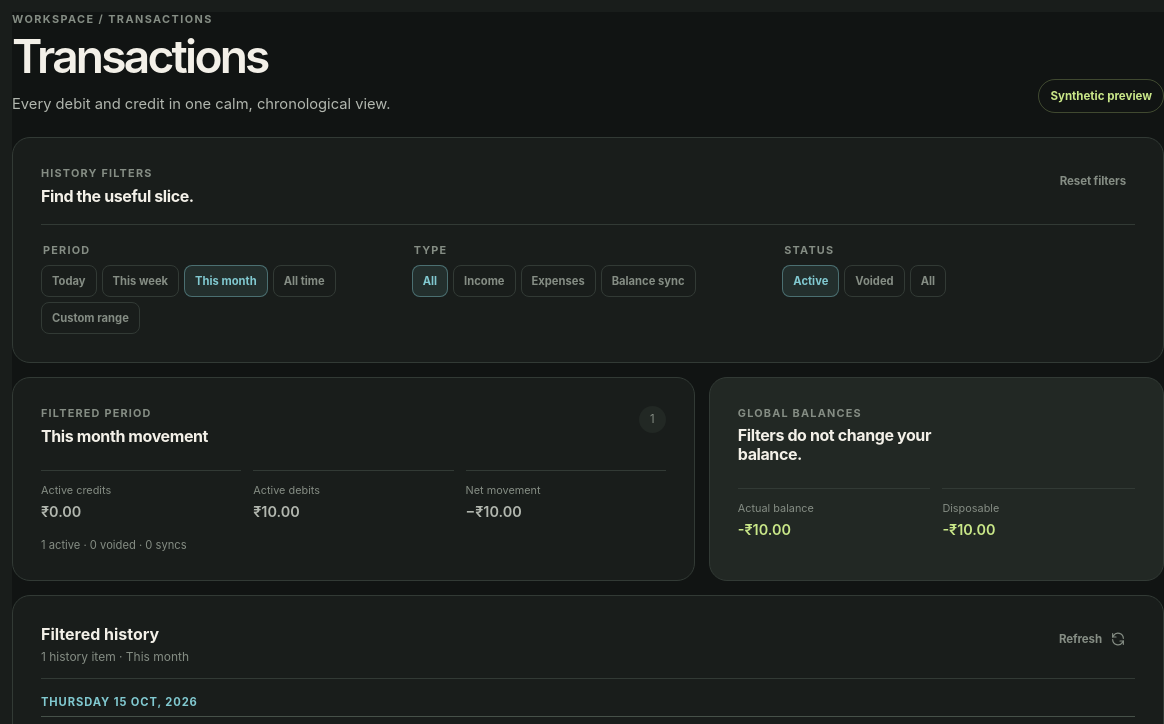
Scenario: transaction history filters › anchors synthetic custom-range defaults and reset to the demo reference date
Click the button "Custom range": (90, 318) 41,302 -> 140,334
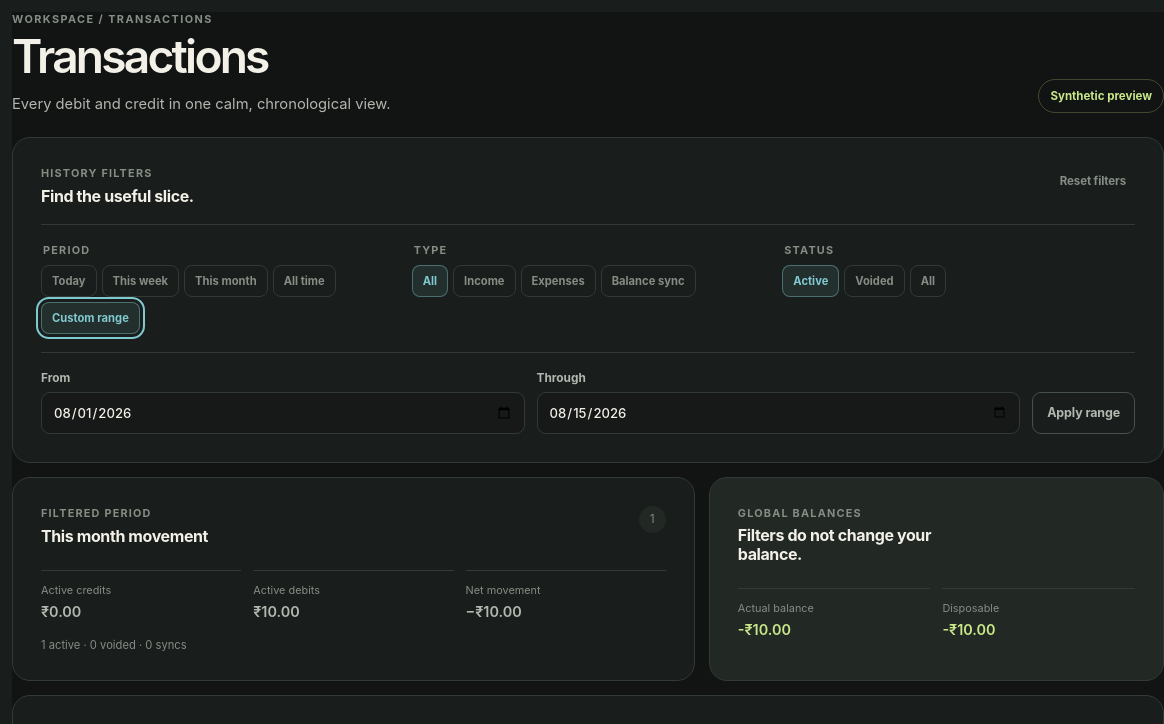
Now the date field named "Custom range start" holds "2026-08-01", box 41,392 -> 525,434
Now the date field named "Custom range end" holds "2026-08-15", box 537,392 -> 1020,434
Click the button "Reset filters": (1093, 181) 1051,166 -> 1135,196
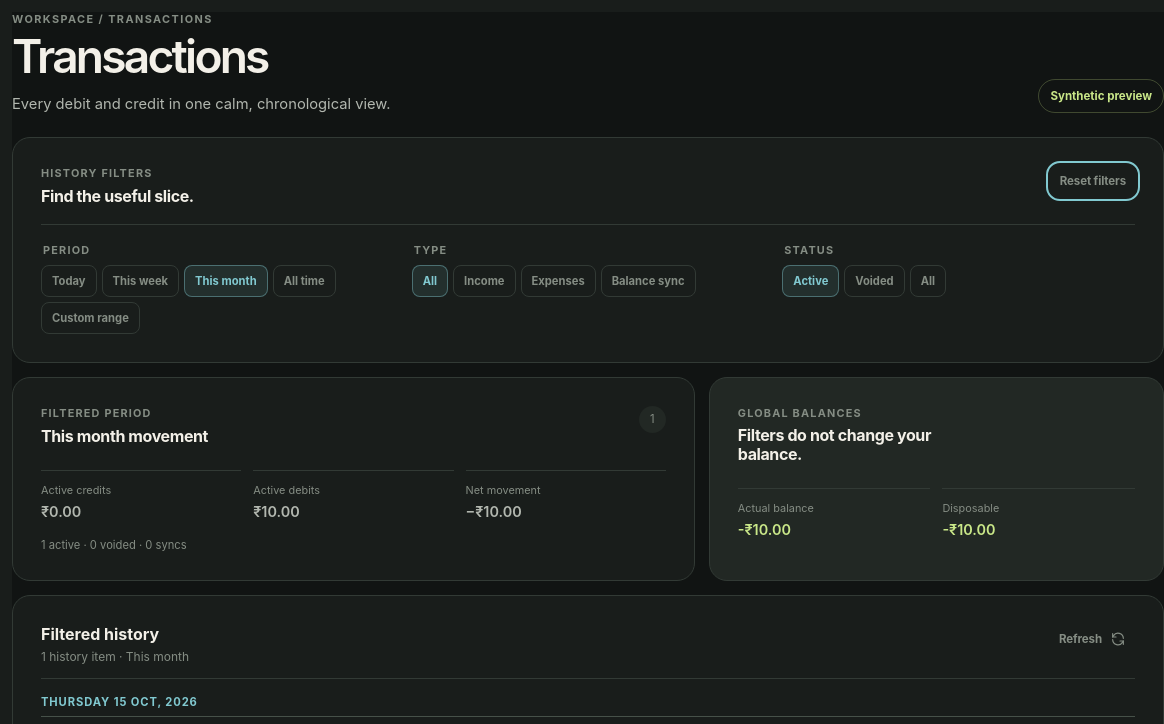
Click the button "Custom range": (90, 318) 41,302 -> 140,334
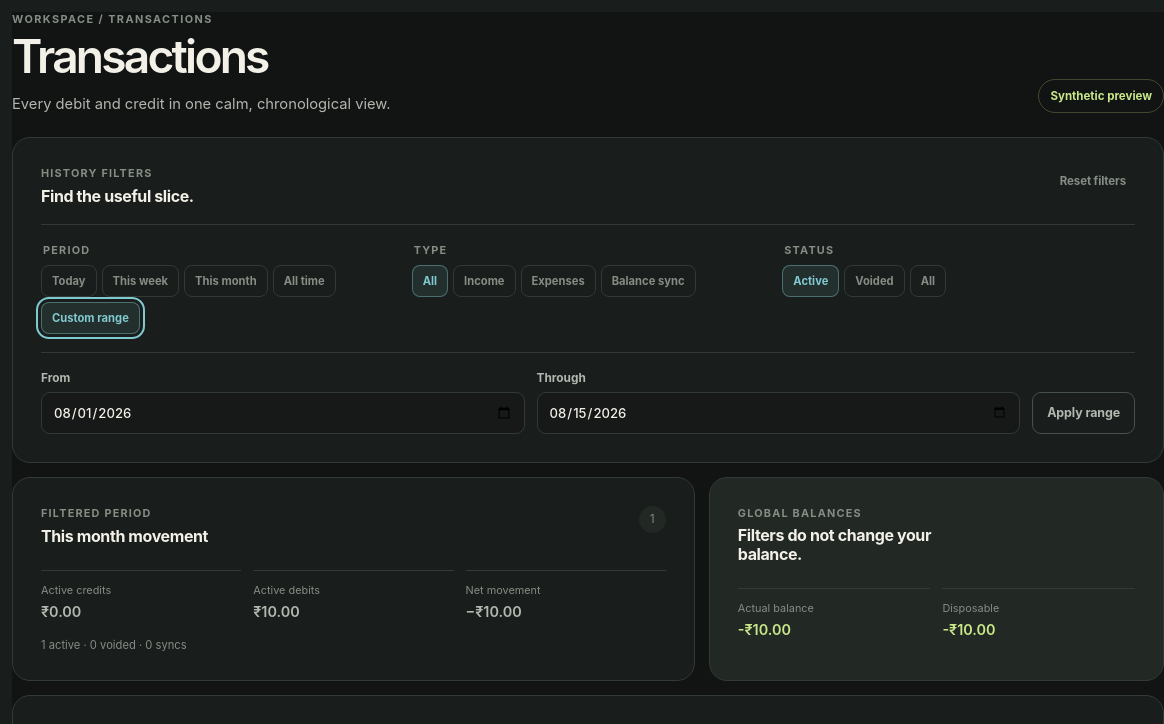
Now the date field named "Custom range start" holds "2026-08-01", box 41,392 -> 525,434
Now the date field named "Custom range end" holds "2026-08-15", box 537,392 -> 1020,434
